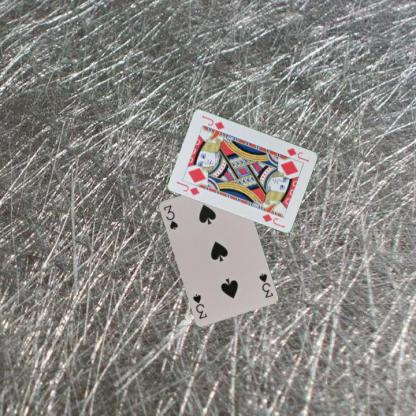3s: (256, 270, 274, 300), (161, 202, 179, 231)
Jd: (284, 145, 310, 163), (175, 178, 201, 196)
